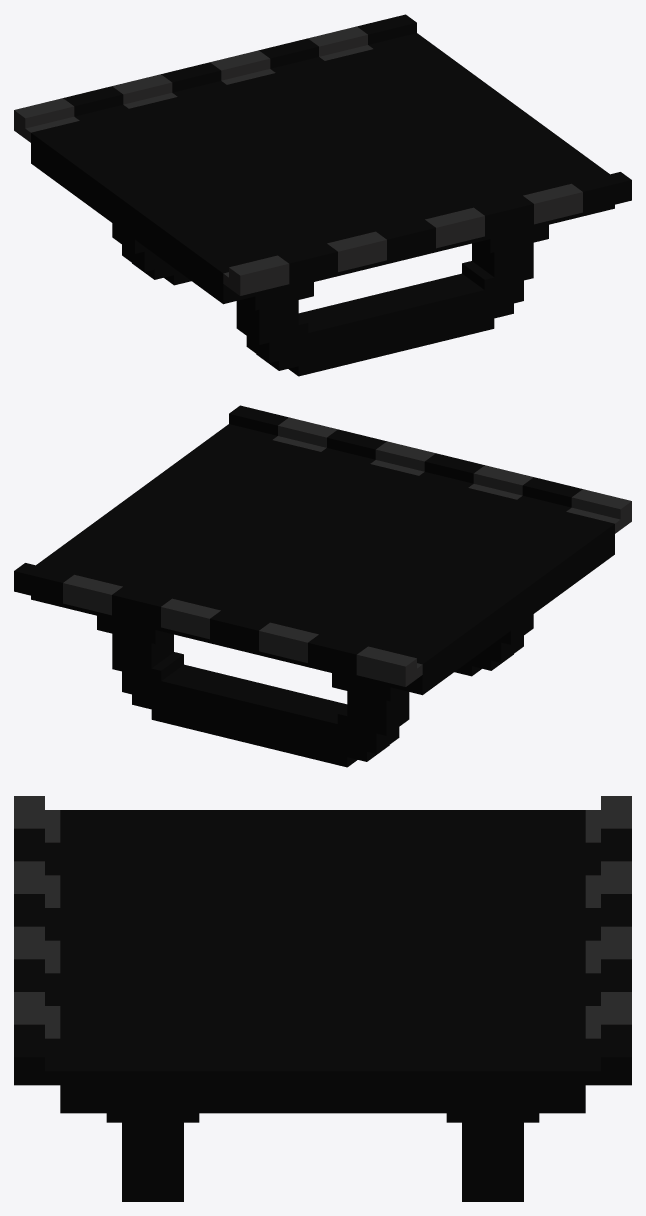
File: road_destroyed.obj
The picture shows the model from 3 angles, top to bottom: view 1: azimuth 30°, elevation 25°; view 2: azimuth 150°, elevation 25°; view 3: azimuth 270°, elevation 25°; orthographic projection. The views are drawn at different scales.
Bounding box in the file's own units: 4 × 1.5 × 4.
